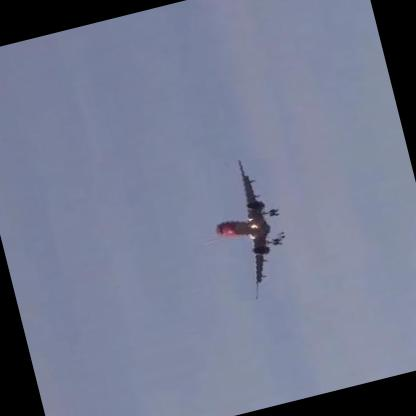plane: (192, 148, 305, 310)
